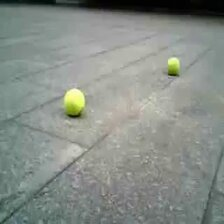tennis: (64, 89, 85, 115), (167, 56, 181, 76)
